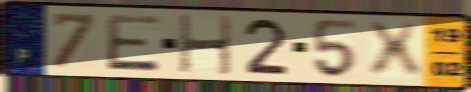2: (241, 17, 290, 77)
5: (311, 17, 359, 79)
7: (49, 11, 99, 71)
E: (103, 13, 163, 74)
H: (177, 13, 234, 77)
X: (363, 21, 427, 80)
